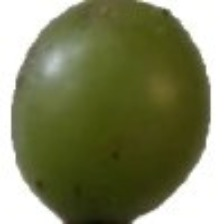grapes: (60, 23, 200, 194)
